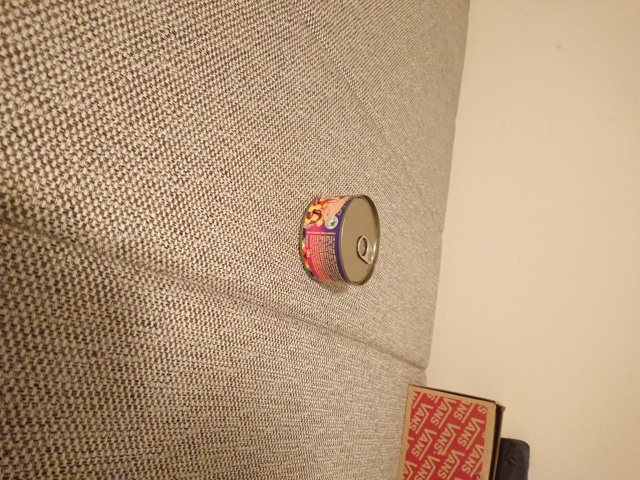Giana Tuna Salad Mexico 185g: (295, 190, 383, 289)
